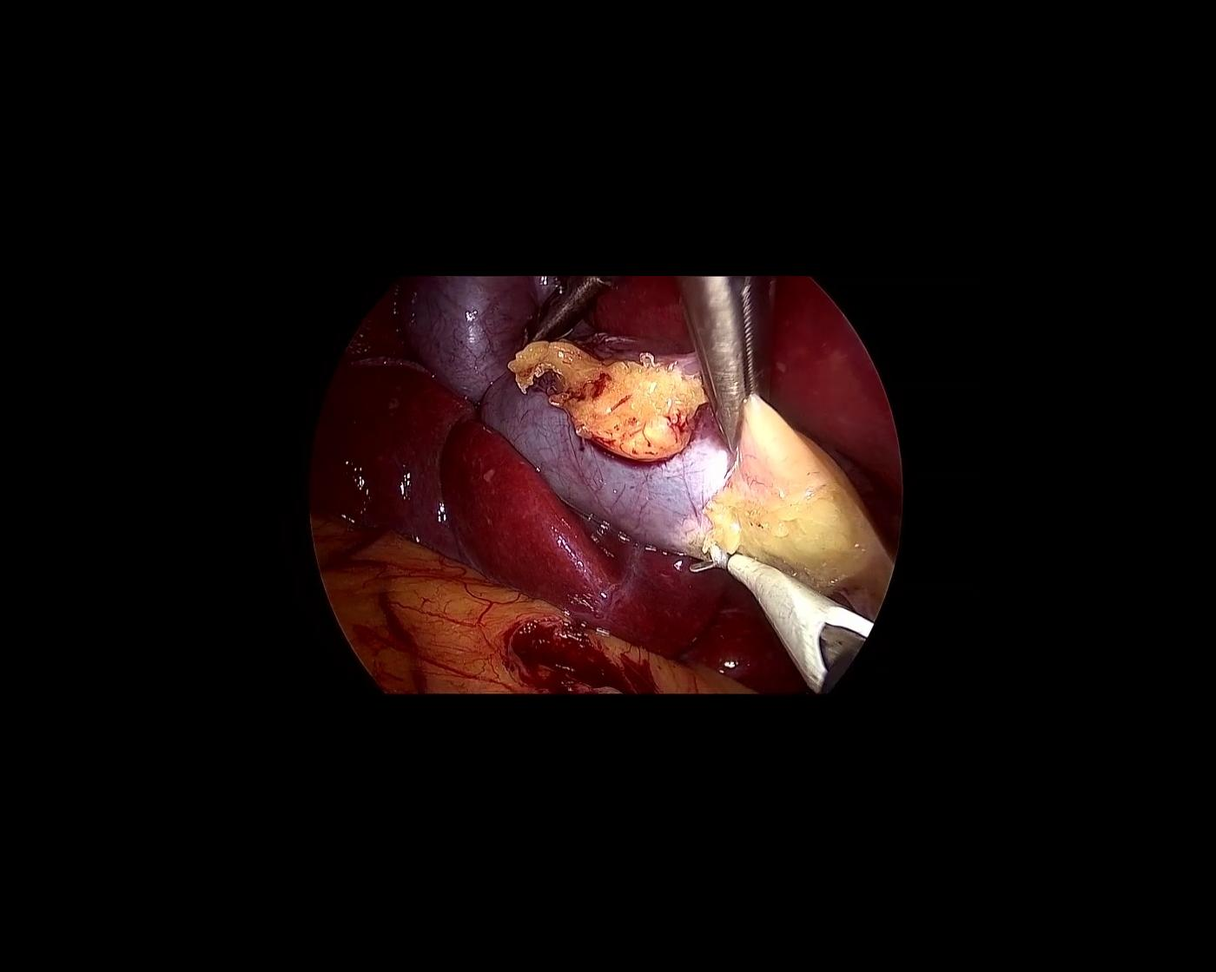Cautery: (668, 518, 875, 697)
Forceps: (677, 274, 771, 462), (497, 256, 614, 365)
Gallbladder: (348, 203, 803, 589)
Liver: (254, 284, 830, 829), (563, 164, 987, 577)
